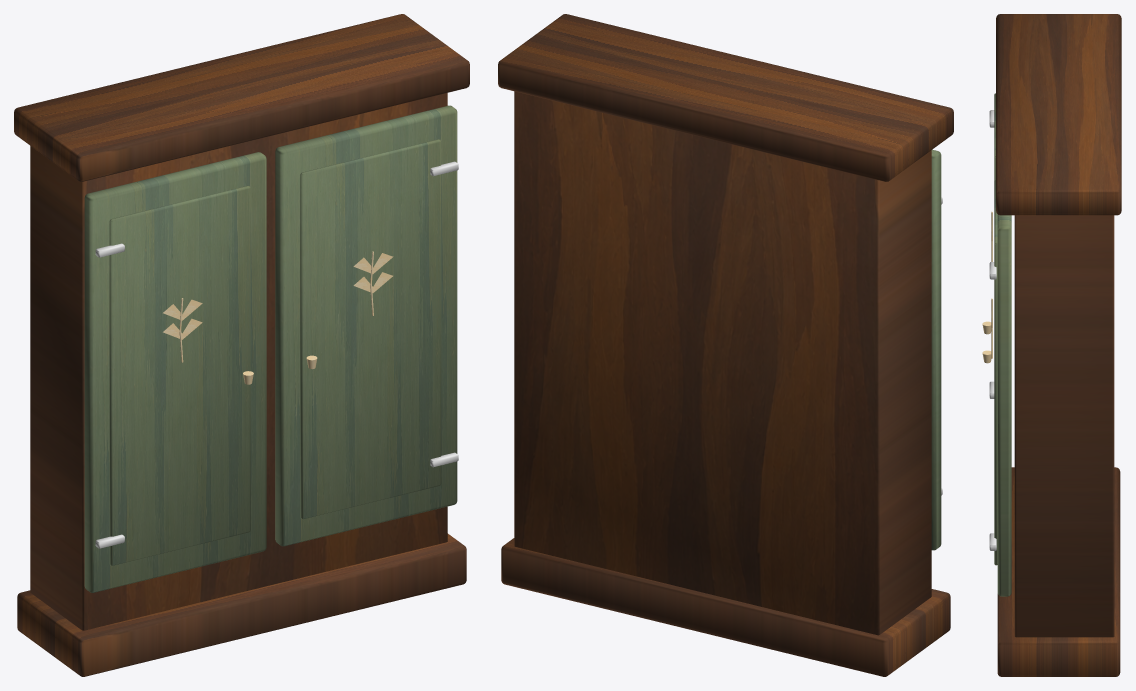
The model's file is CM_AF01_SupplyCabinet.fbx.
The picture shows the model from 3 angles, left to right: view 1: azimuth 30°, elevation 25°; view 2: azimuth 150°, elevation 25°; view 3: azimuth 270°, elevation 25°; orthographic projection. The views are drawn at different scales.
Visible parts, largest first — view 1: CM_AF01_SupplyCabinet; view 2: CM_AF01_SupplyCabinet; view 3: CM_AF01_SupplyCabinet.
Part boxes in pixels (left/top/right/bottom): CM_AF01_SupplyCabinet: left=14, top=14, right=469, bottom=676; CM_AF01_SupplyCabinet: left=498, top=14, right=953, bottom=676; CM_AF01_SupplyCabinet: left=982, top=14, right=1121, bottom=676.
Bounding box in the file's own units: 1.48 × 1.89 × 0.488.
